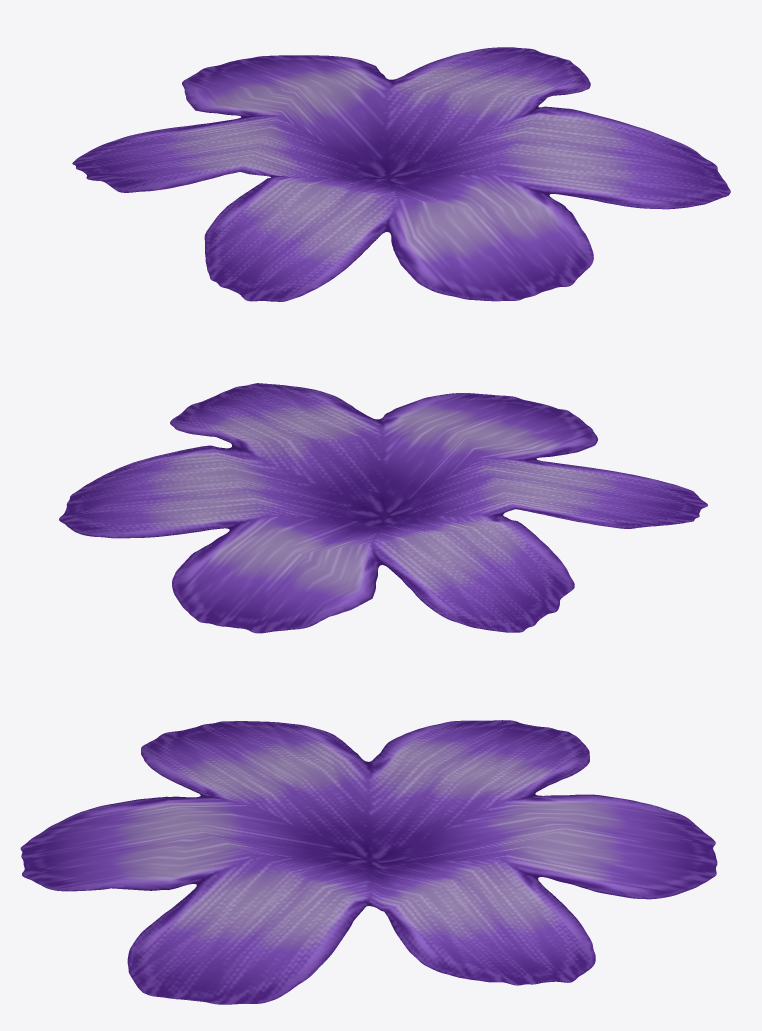
Rendered from Flower07.glb.
3 views of the same model, one above another, from view 1: azimuth 30°, elevation 25°; view 2: azimuth 150°, elevation 25°; view 3: azimuth 270°, elevation 25° (orthographic). The views are drawn at different scales.
Visible parts, largest first — view 1: Flower07; view 2: Flower07; view 3: Flower07.
Part boxes in pixels (x1,y1,x2,y2): Flower07: (72,47,730,301); Flower07: (59,383,707,633); Flower07: (20,720,717,1004).
Size of the model in its own units: 0.6029 by 0.0375 by 0.6029.
1 material, 1 textured.
